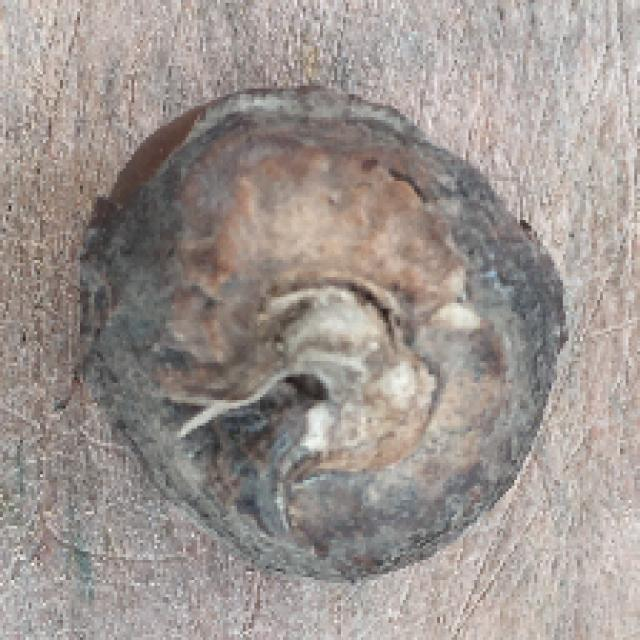DamagedHazelnut: (72, 86, 573, 582)
